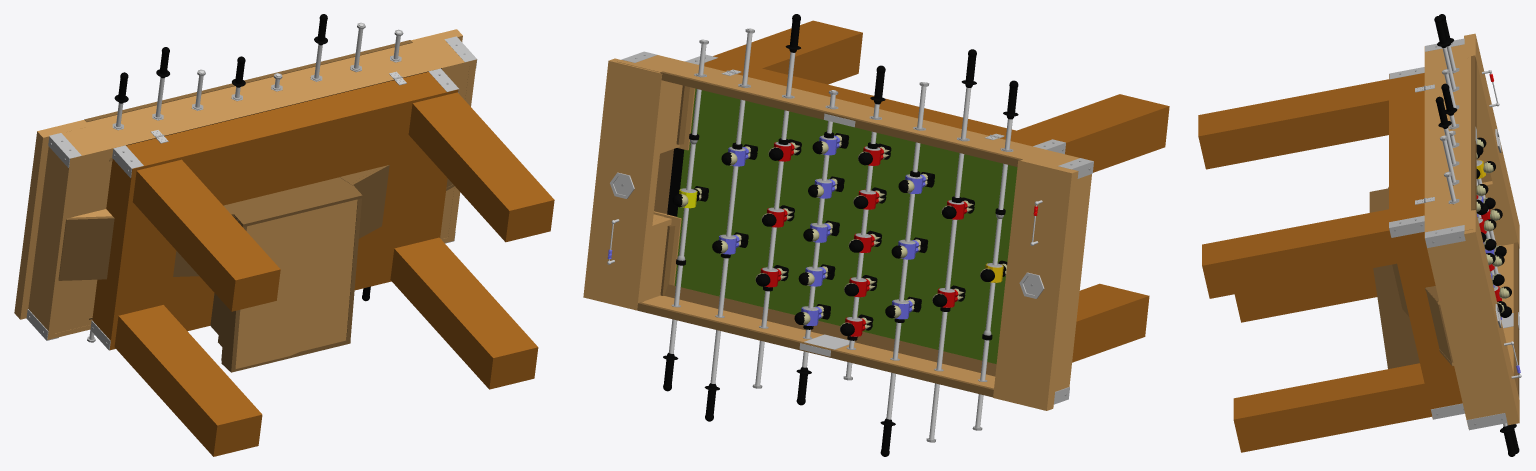
The model's file is Carlos Cerqueira Matraquilhos.fbx.
3 views of the same model, side by side, from view 1: azimuth 30°, elevation 25°; view 2: azimuth 150°, elevation 25°; view 3: azimuth 270°, elevation 25° (orthographic). The views are drawn at different scales.
Visible parts, largest first — view 1: polySurface402; view 2: polySurface402; view 3: polySurface402.
Boxes of the visible parts, <box> form: polySurface402: <box>14,14,554,456</box>; polySurface402: <box>583,14,1169,456</box>; polySurface402: <box>1198,14,1521,456</box>.
Bounding box in the file's own units: 10.59 × 8.57 × 7.31.
